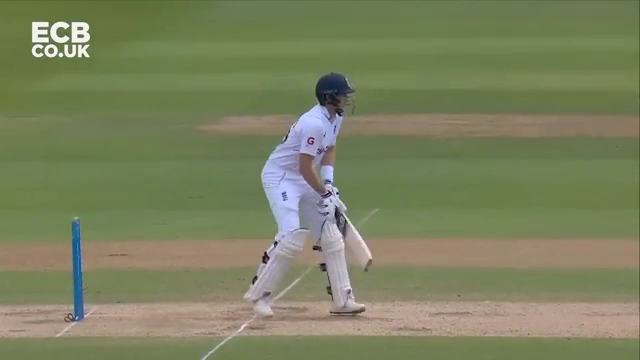batsman: (244, 73, 377, 319)
